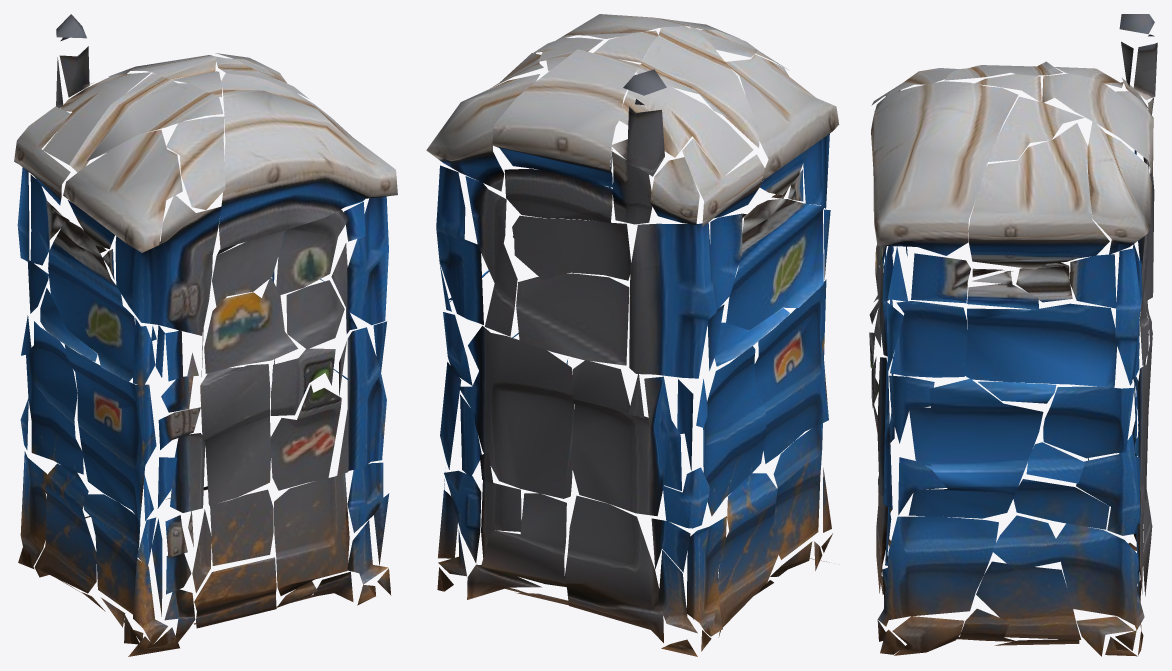
File: potty.glb
The picture shows the model from 3 angles, left to right: view 1: azimuth 30°, elevation 25°; view 2: azimuth 150°, elevation 25°; view 3: azimuth 270°, elevation 25°; orthographic projection. The views are drawn at different scales.
Parts seen in each view (by area): view 1: tripo_node_aad97eec-e583-4d0d-8569-d9a7310d5cb0; view 2: tripo_node_aad97eec-e583-4d0d-8569-d9a7310d5cb0; view 3: tripo_node_aad97eec-e583-4d0d-8569-d9a7310d5cb0.
Part boxes in pixels (x1,y1,x2,y2): tripo_node_aad97eec-e583-4d0d-8569-d9a7310d5cb0: (14, 14, 397, 656); tripo_node_aad97eec-e583-4d0d-8569-d9a7310d5cb0: (426, 14, 839, 656); tripo_node_aad97eec-e583-4d0d-8569-d9a7310d5cb0: (869, 14, 1157, 656).
Bounding box in the file's own units: 1.05 × 2 × 0.9503.
1 material, 1 textured.
